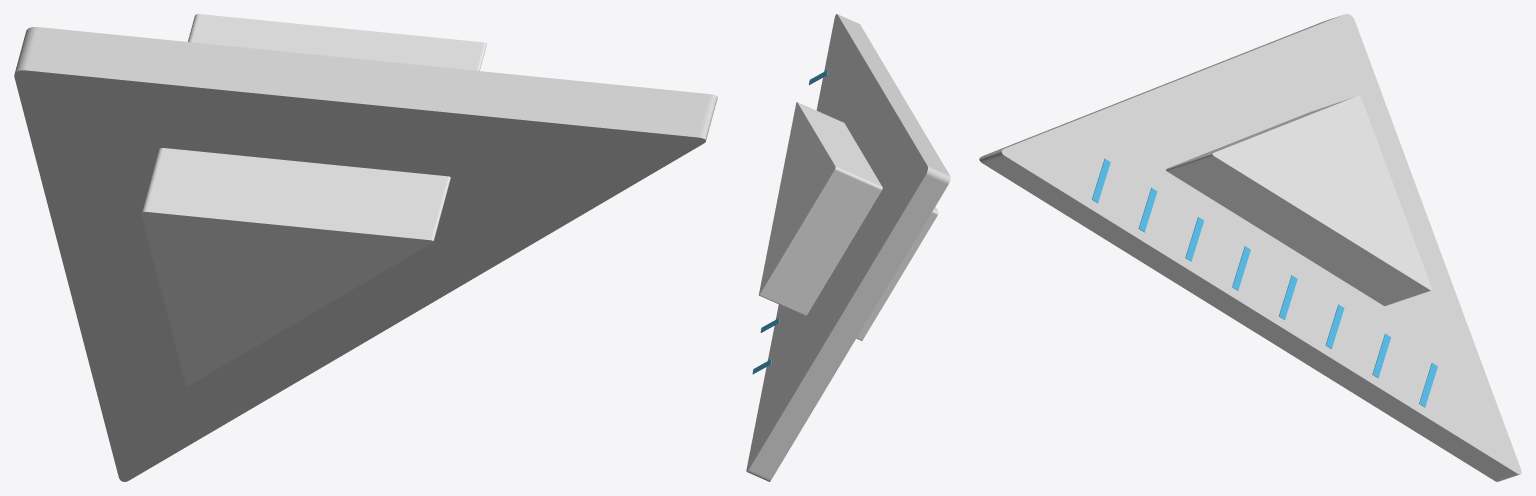
File: stem_steam.glb
The picture shows the model from 3 angles, left to right: view 1: azimuth 30°, elevation 25°; view 2: azimuth 150°, elevation 25°; view 3: azimuth 270°, elevation 25°; orthographic projection. The views are drawn at different scales.
Visible parts, largest first — view 1: triangle/glass, Cube.004; view 2: triangle/glass, Cube.004, measuring-lines/color; view 3: triangle/glass, Cube.004, measuring-lines/color.
Boxes of the visible parts, x1,y1,x2,y2 form: triangle/glass: (14,27,717,481); Cube.004: (141,14,486,385); triangle/glass: (746,14,950,481); Cube.004: (759,102,938,340); measuring-lines/color: (752,70,828,374); triangle/glass: (979,14,1521,481); Cube.004: (1166,96,1431,305); measuring-lines/color: (1092,158,1437,407).
Size of the model in its own units: 1.84 by 2.26 by 2.72.
